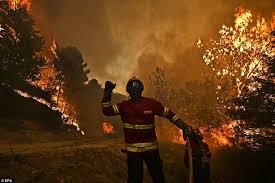fire: (199, 6, 274, 97), (17, 38, 81, 135)
